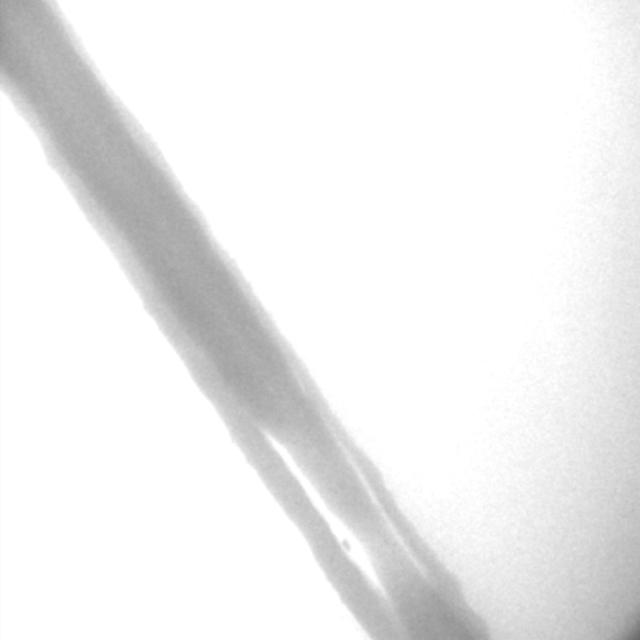unfused: (258, 424, 422, 596)
